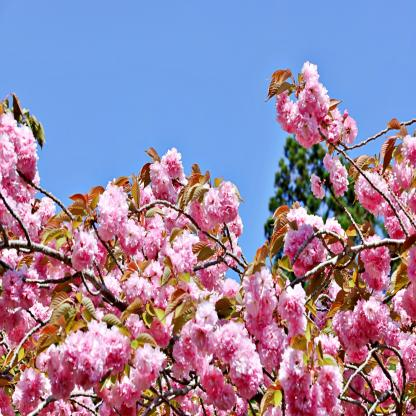YaeSakura: (1, 60, 416, 416)
